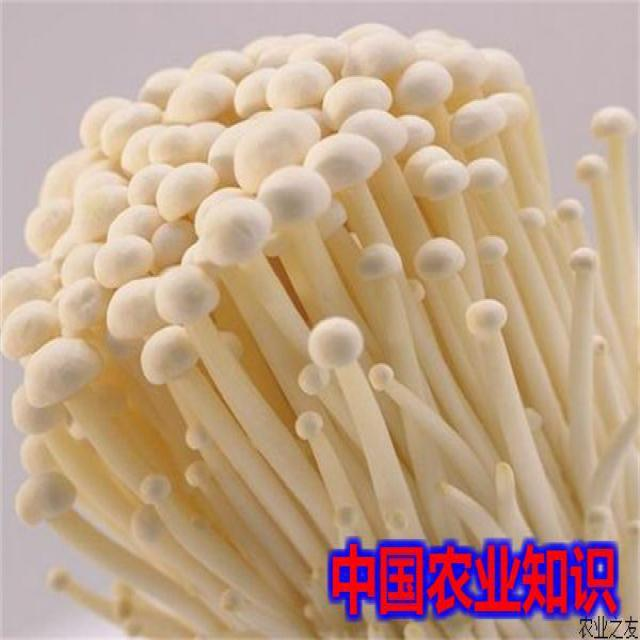Flammulina velutiper: (1, 22, 640, 637)
